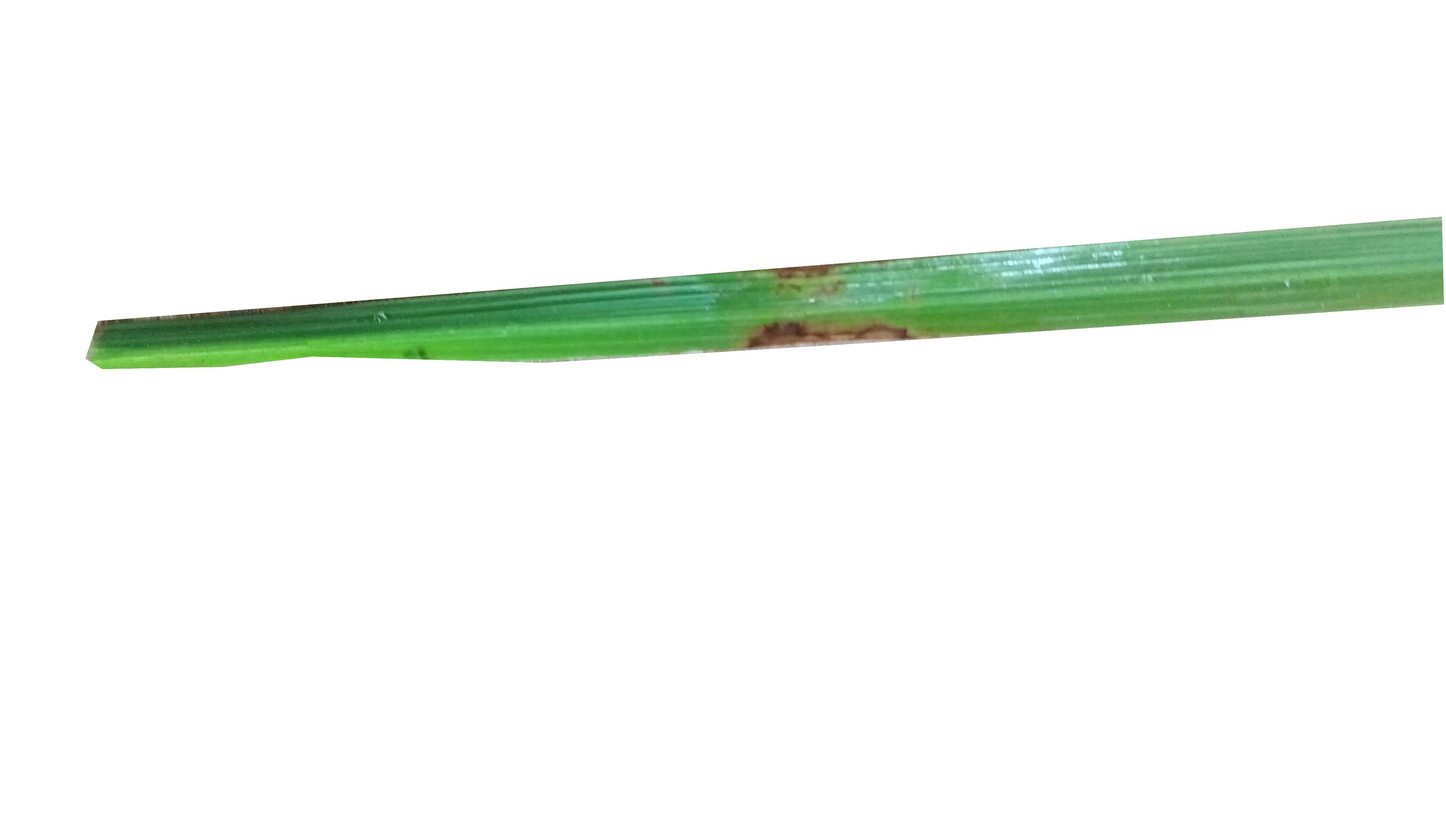Rice blast: (732, 301, 922, 351), (752, 263, 854, 302)
